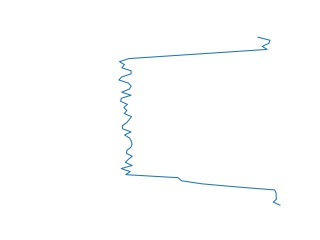distributaryChannelFill: (114, 35, 287, 209)
